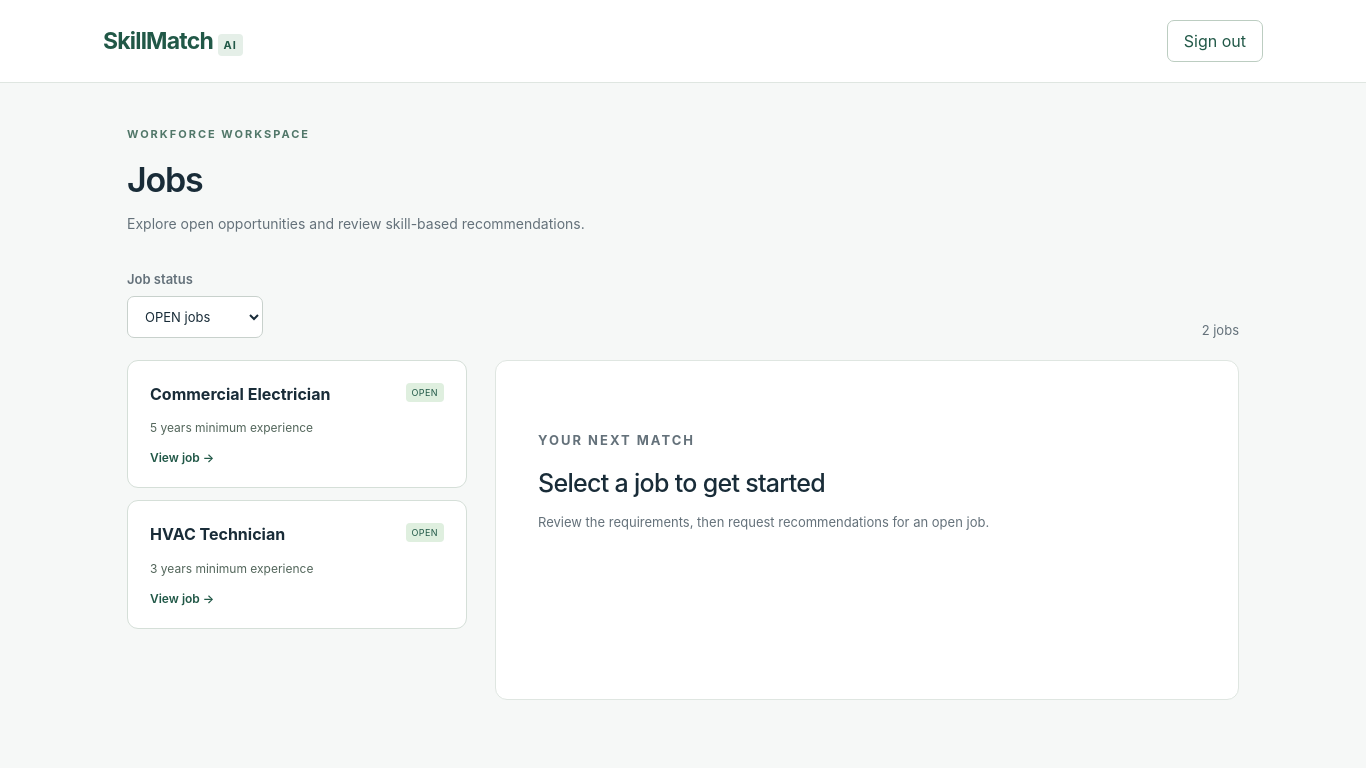
Test: closed jobs can be viewed but not requested
The width and height of the screenshot is (1366, 768).
Expected: the button "Commercial Electrician" is shown, [127,360,467,488]
Select "All jobs" in the dropdown labelled "Job status" at (195, 317), box [127,296,263,338]
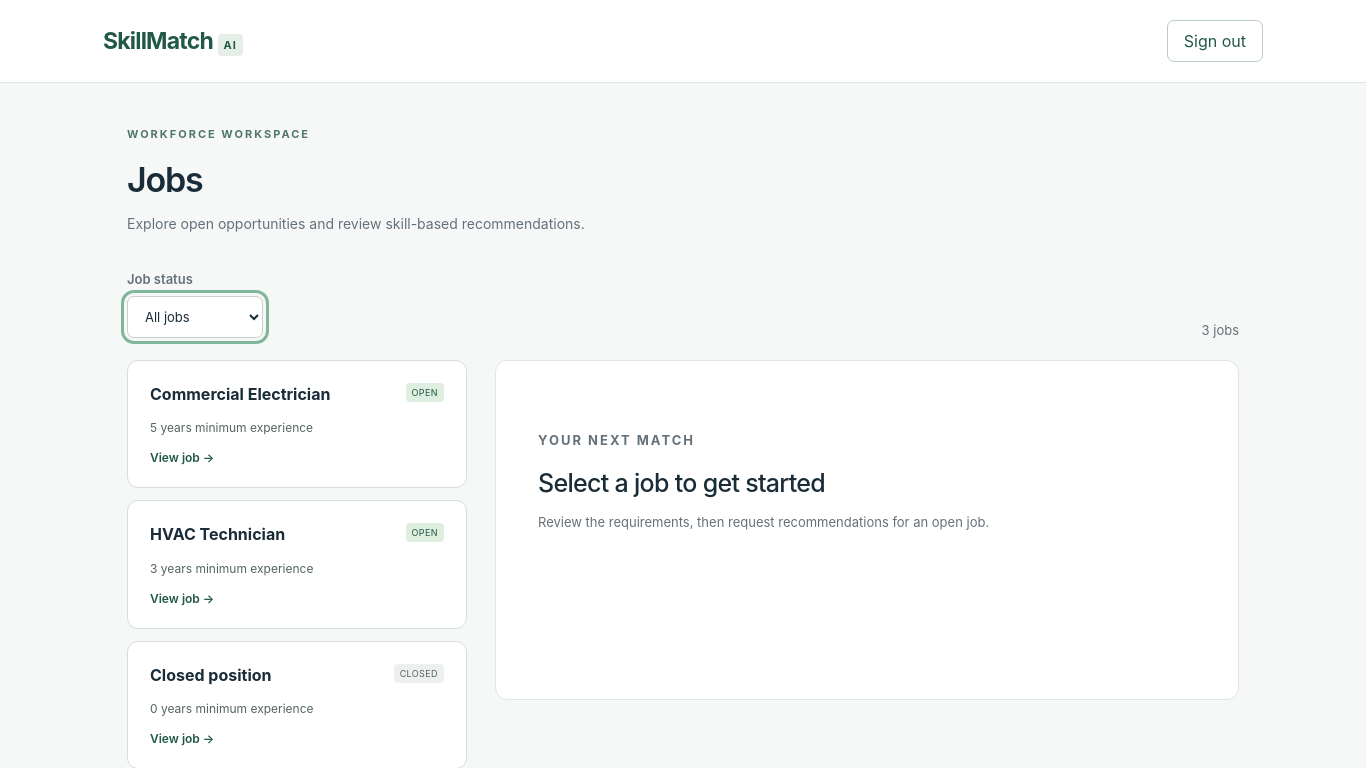
Click the button "Closed position CLOSED 0 years minimum experience View job →".
click(297, 705)  # box [127,641,467,767]
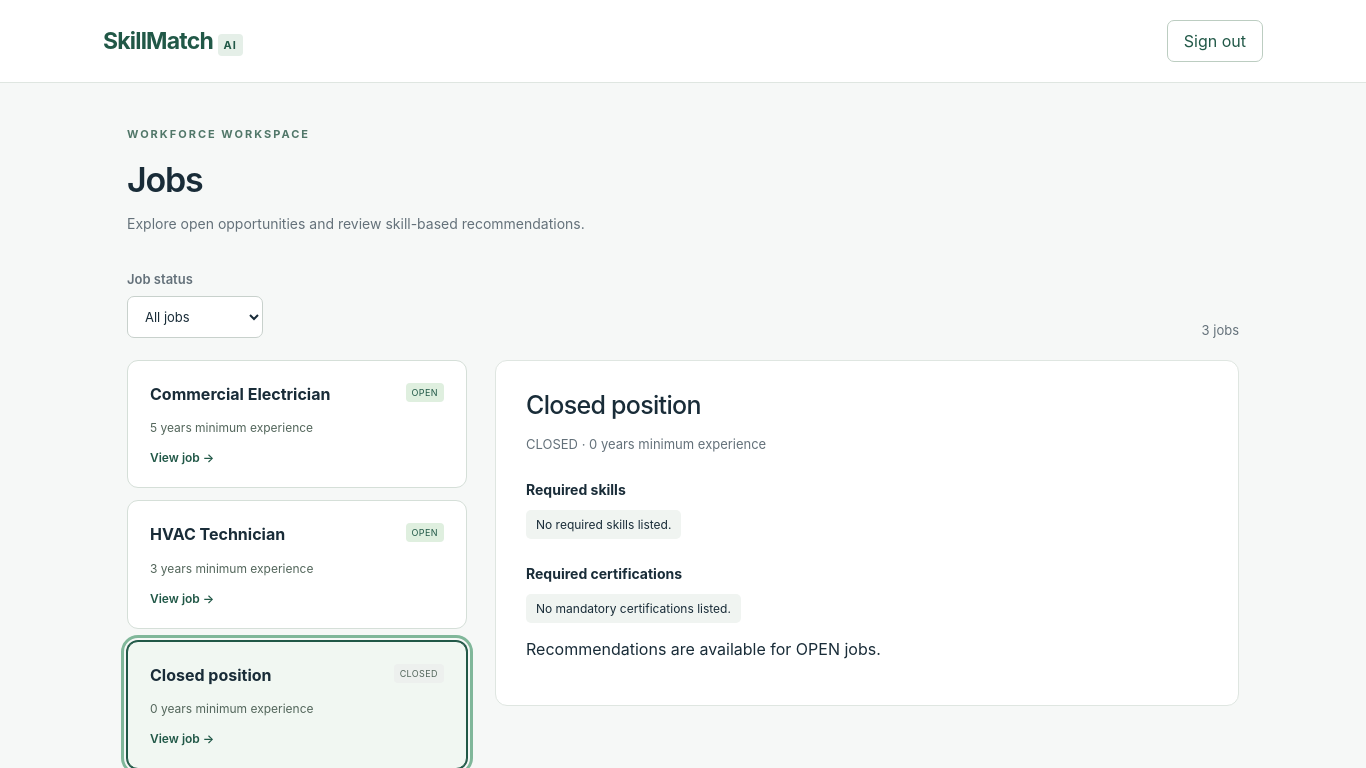
Now the text "Recommendations are available for OPEN jobs." is shown, box [526,639,881,659]
Now the text "request recommendations" is gone
